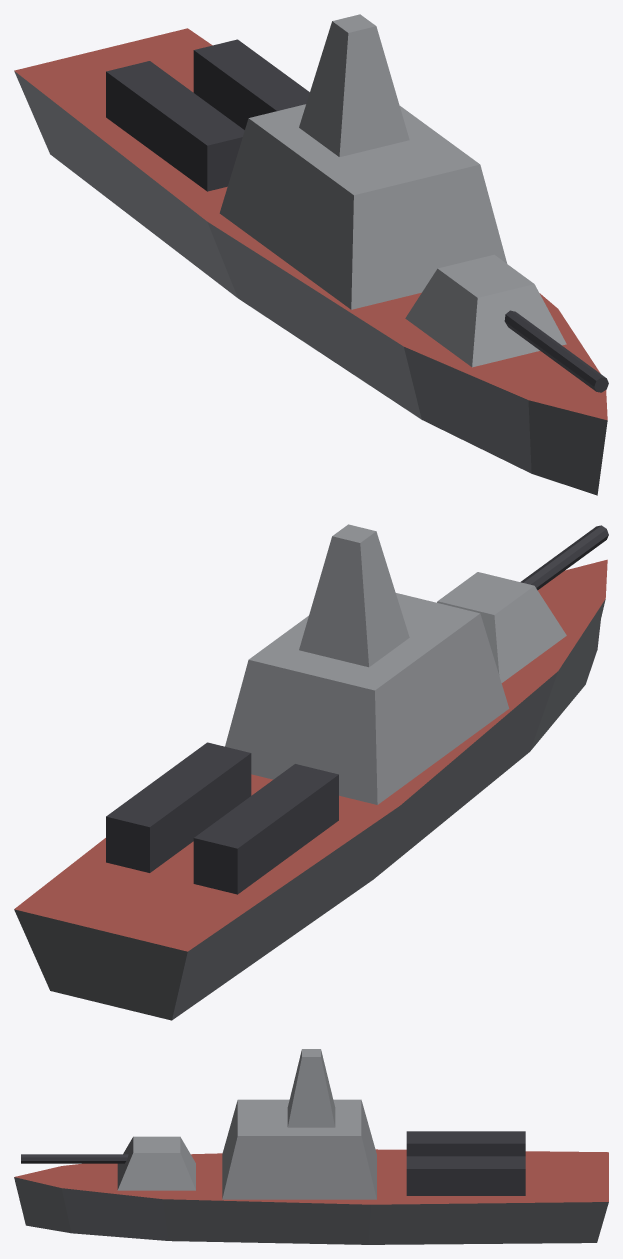
The model's file is enemy_small.glb.
3 views of the same model, one above another, from view 1: azimuth 30°, elevation 25°; view 2: azimuth 150°, elevation 25°; view 3: azimuth 270°, elevation 25° (orthographic). The views are drawn at different scales.
Parts seen in each view (by area): view 1: EnemySmall; view 2: EnemySmall; view 3: EnemySmall.
Boxes of the visible parts, x1=… form: EnemySmall: x1=14, y1=14, x2=608, y2=495; EnemySmall: x1=14, y1=524, x2=608, y2=1020; EnemySmall: x1=14, y1=1049, x2=608, y2=1244.
Bounding box in the file's own units: 1.1 × 1.6 × 5.
